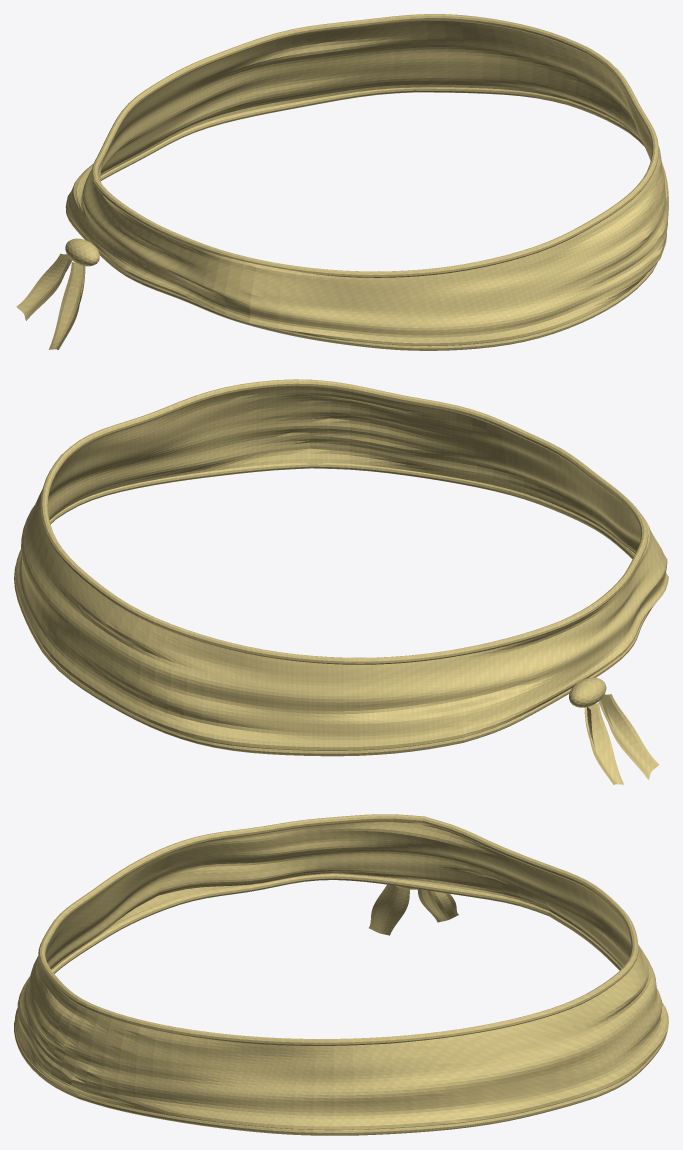
Rendered from side_h_tsuruchi_hachimaki.glb.
The picture shows the model from 3 angles, top to bottom: view 1: azimuth 30°, elevation 25°; view 2: azimuth 150°, elevation 25°; view 3: azimuth 270°, elevation 25°; orthographic projection. The views are drawn at different scales.
Parts seen in each view (by area): view 1: woven_cloth, inner_cloth, folded_edge, wrap_ties; view 2: woven_cloth, inner_cloth, folded_edge, wrap_ties; view 3: woven_cloth, inner_cloth, folded_edge, wrap_ties.
Part boxes in pixels (left/top/right/bottom): woven_cloth: left=66, top=146, right=667, bottom=346; inner_cloth: left=98, top=21, right=652, bottom=182; folded_edge: left=65, top=14, right=668, bottom=350; wrap_ties: left=16, top=253, right=85, bottom=349; woven_cloth: left=15, top=489, right=668, bottom=750; inner_cloth: left=47, top=386, right=640, bottom=553; folded_edge: left=14, top=379, right=651, bottom=756; wrap_ties: left=584, top=694, right=659, bottom=784; woven_cloth: left=15, top=945, right=668, bottom=1130; inner_cloth: left=45, top=821, right=631, bottom=969; folded_edge: left=14, top=814, right=668, bottom=1135; wrap_ties: left=369, top=884, right=458, bottom=935.
Bounding box in the file's own units: 18.5 × 5.26 × 17.2.
Materials: 4 (4 with a texture image).
